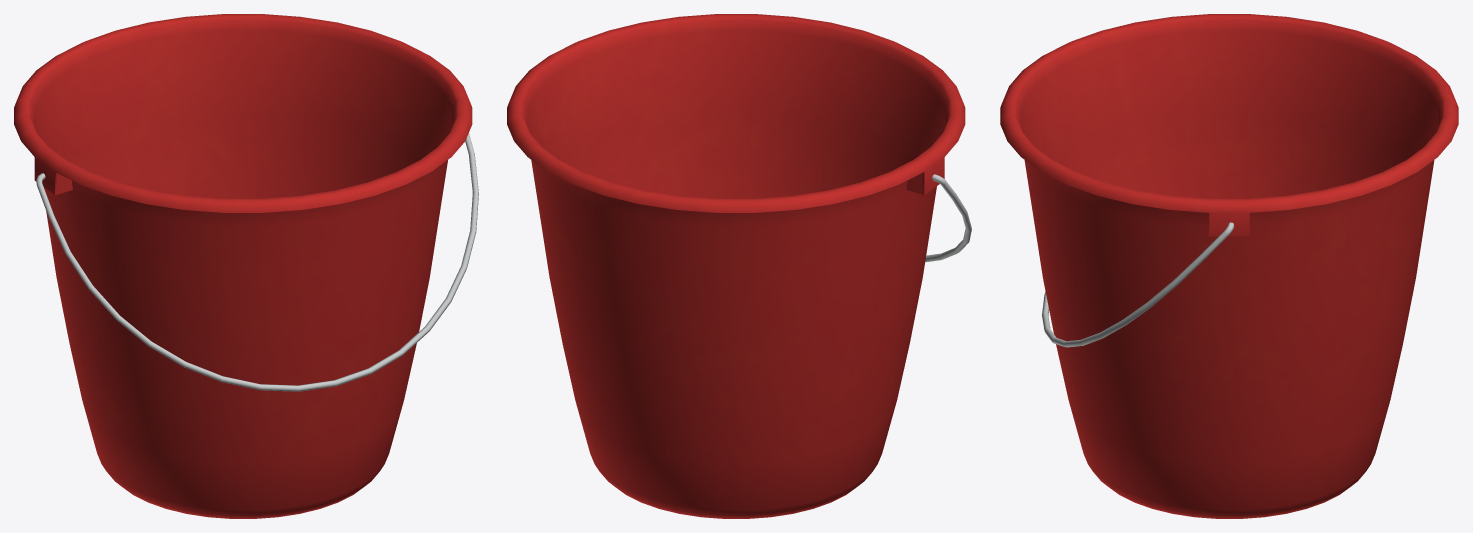
File: cc0---bucket-3-cb4846.glb
3 renders of one model, left to right at view 1: azimuth 30°, elevation 25°; view 2: azimuth 150°, elevation 25°; view 3: azimuth 270°, elevation 25°, orthographic.
Parts seen in each view (by area): view 1: PropMesh; view 2: PropMesh; view 3: PropMesh.
Boxes of the visible parts, x1,y1,x2,y2 form: PropMesh: (14, 14, 478, 518); PropMesh: (507, 14, 971, 518); PropMesh: (1000, 14, 1458, 518).
Size of the model in its own units: 0.3 by 0.2444 by 0.2862.
1 material, 1 textured.
